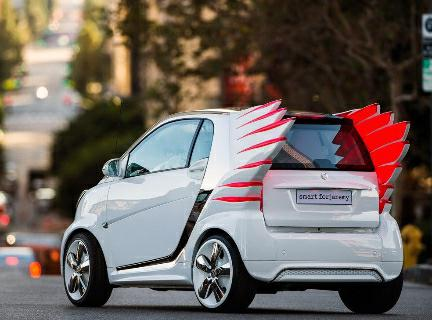smart-forjeremy: (51, 99, 406, 311)
